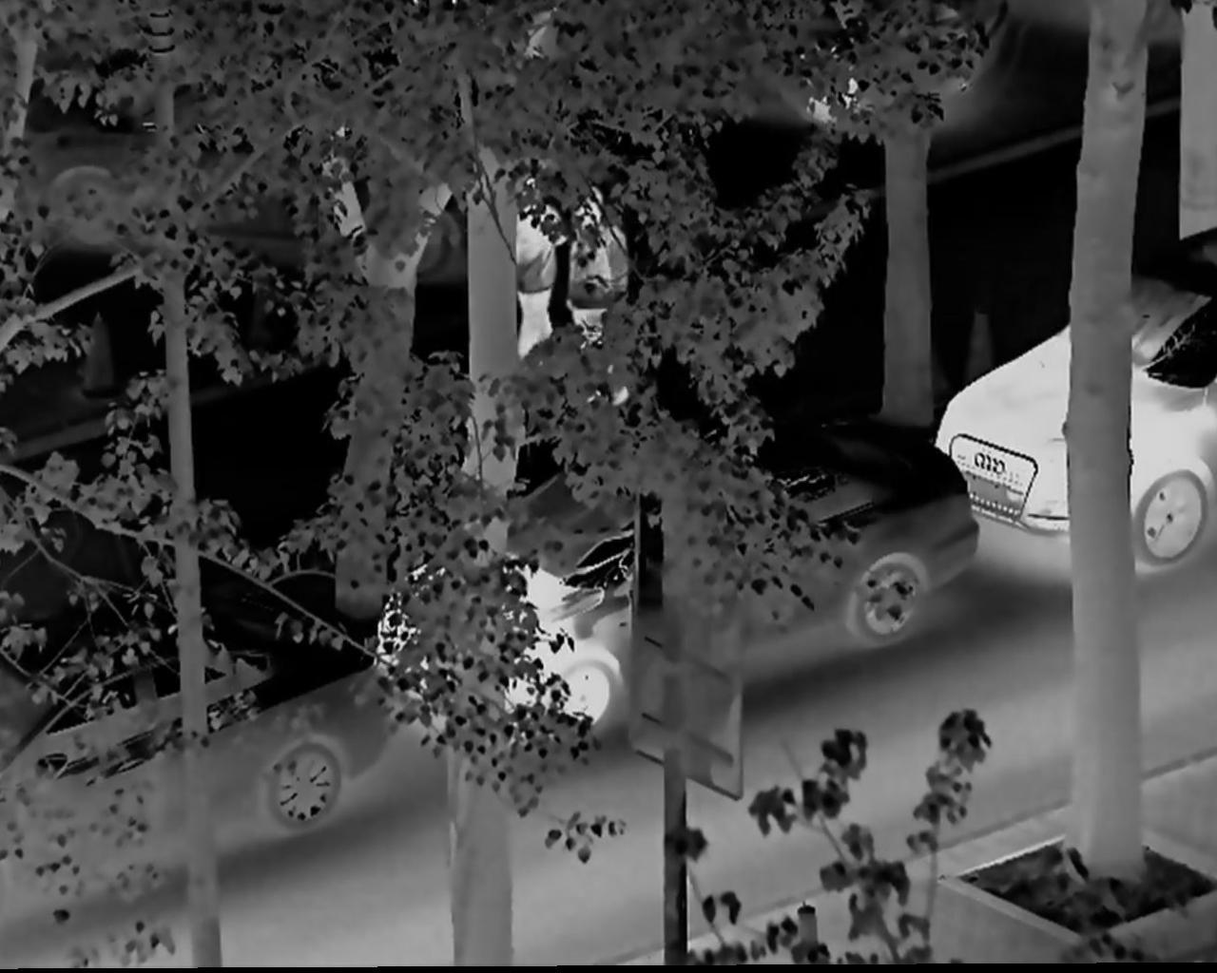person: (556, 171, 640, 378), (497, 179, 566, 380)
